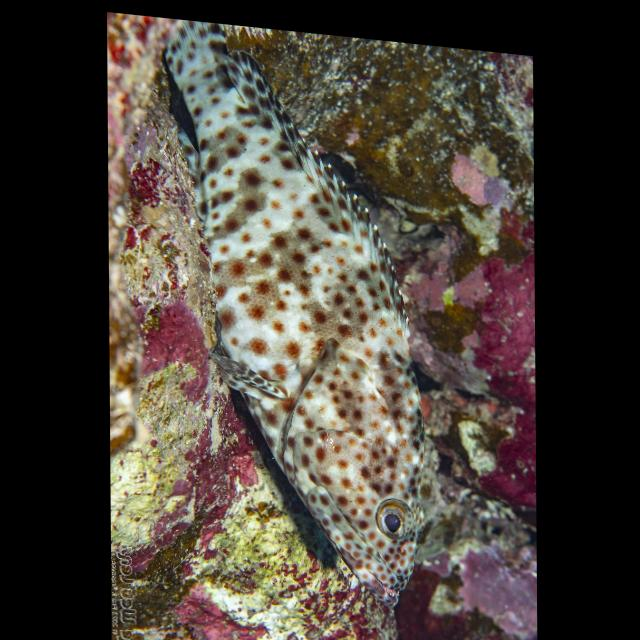Groupers: (158, 16, 432, 612)
